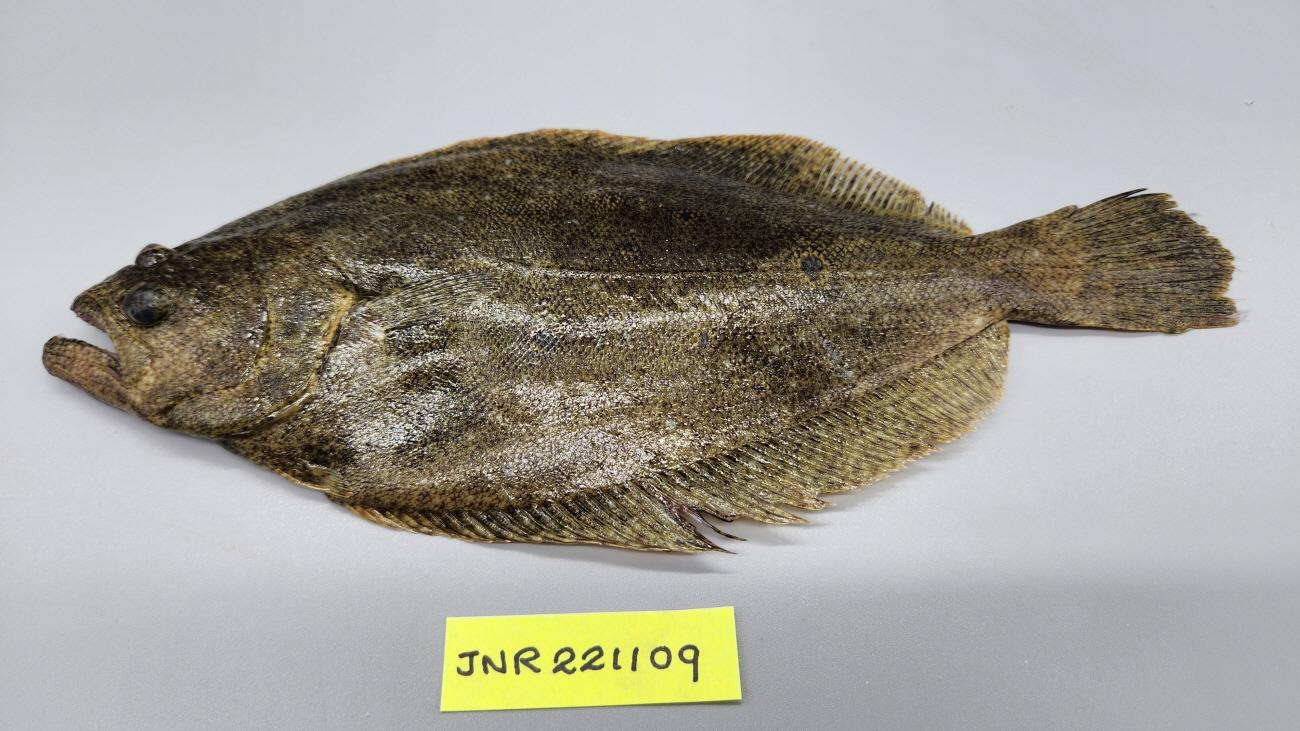POOUN: (40, 131, 1238, 554)
